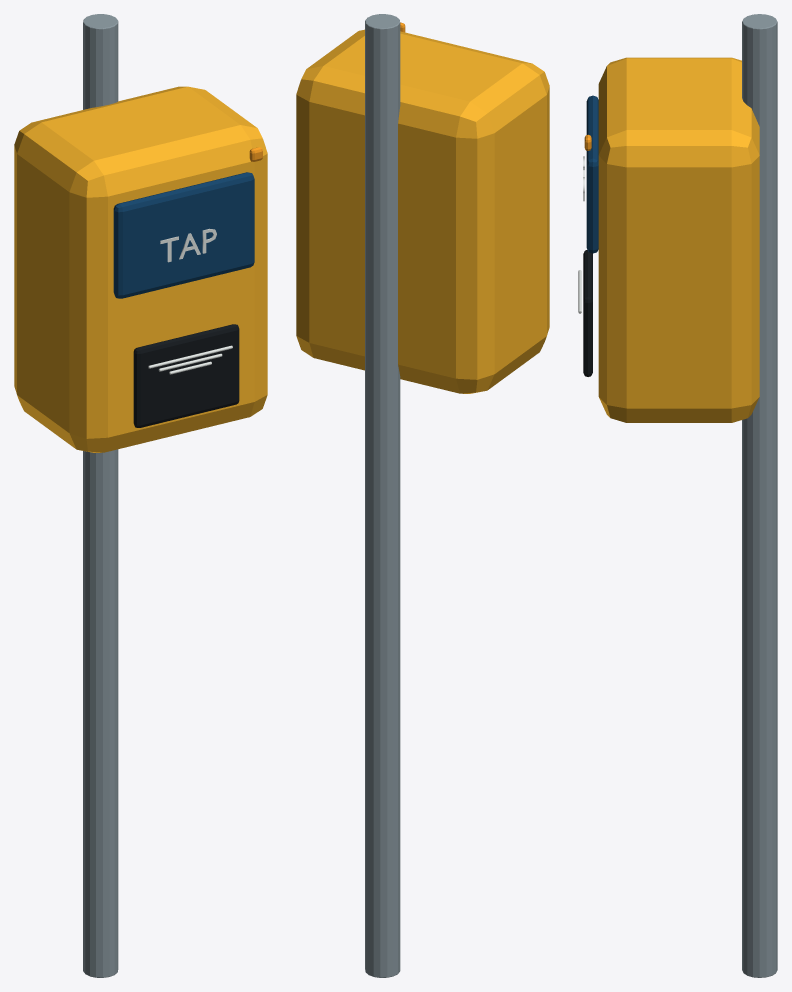
3 renders of one model, left to right at view 1: azimuth 30°, elevation 25°; view 2: azimuth 150°, elevation 25°; view 3: azimuth 270°, elevation 25°, orthographic.
Parts seen in each view (by area): view 1: READER_Body, MOUNT_Pole, DISPLAY_Screen, TARGET_Pad, EDITABLE_Display; view 2: READER_Body, MOUNT_Pole; view 3: READER_Body, MOUNT_Pole, DISPLAY_Screen, TARGET_Pad.
Part boxes in pixels (x1,y1,x2,y2): READER_Body: [14, 86, 267, 452]; MOUNT_Pole: [83, 14, 118, 977]; DISPLAY_Screen: [113, 172, 254, 298]; TARGET_Pad: [133, 324, 239, 427]; EDITABLE_Display: [160, 228, 216, 262]; READER_Body: [296, 29, 549, 393]; MOUNT_Pole: [365, 14, 400, 977]; READER_Body: [598, 57, 759, 422]; MOUNT_Pole: [742, 14, 777, 977]; DISPLAY_Screen: [586, 95, 598, 253]; TARGET_Pad: [583, 249, 592, 376].
Bounding box in the file's own units: 0.28 × 1.3 × 0.247.
